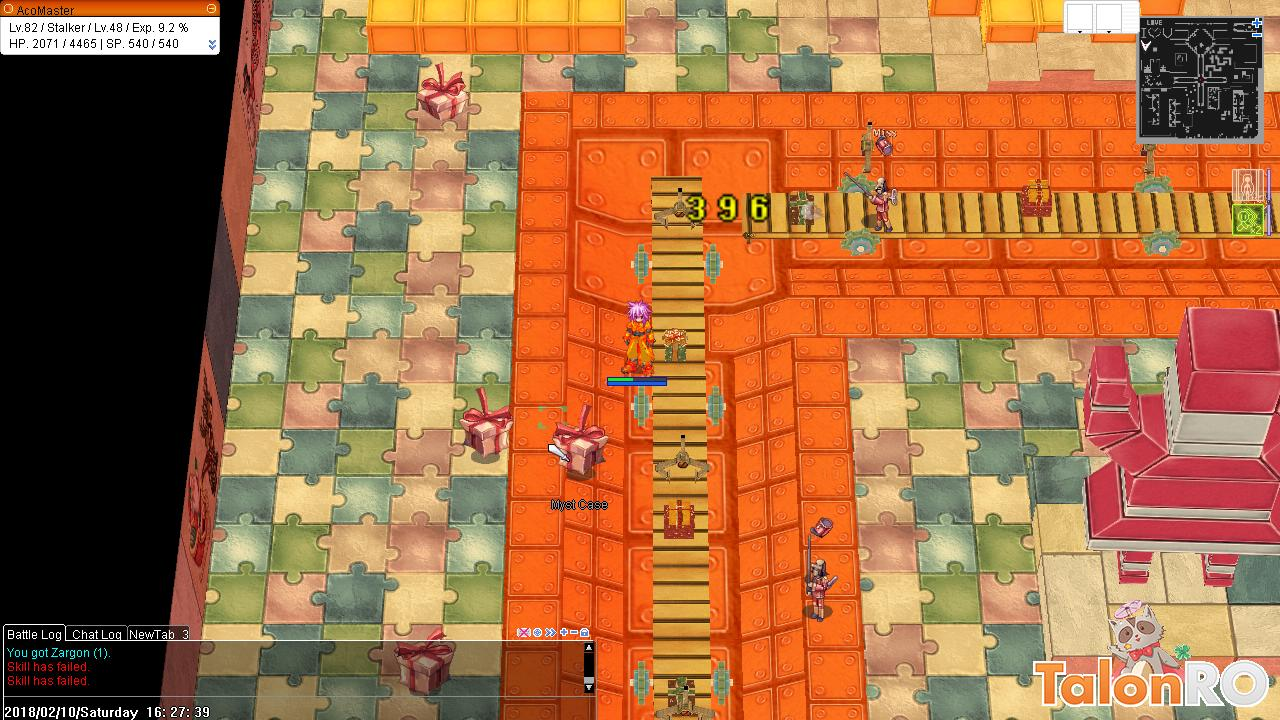mob: (842, 129, 898, 246), (796, 514, 838, 626)
myst_case: (547, 402, 612, 488), (393, 626, 461, 699), (458, 383, 517, 462), (412, 60, 475, 126)
